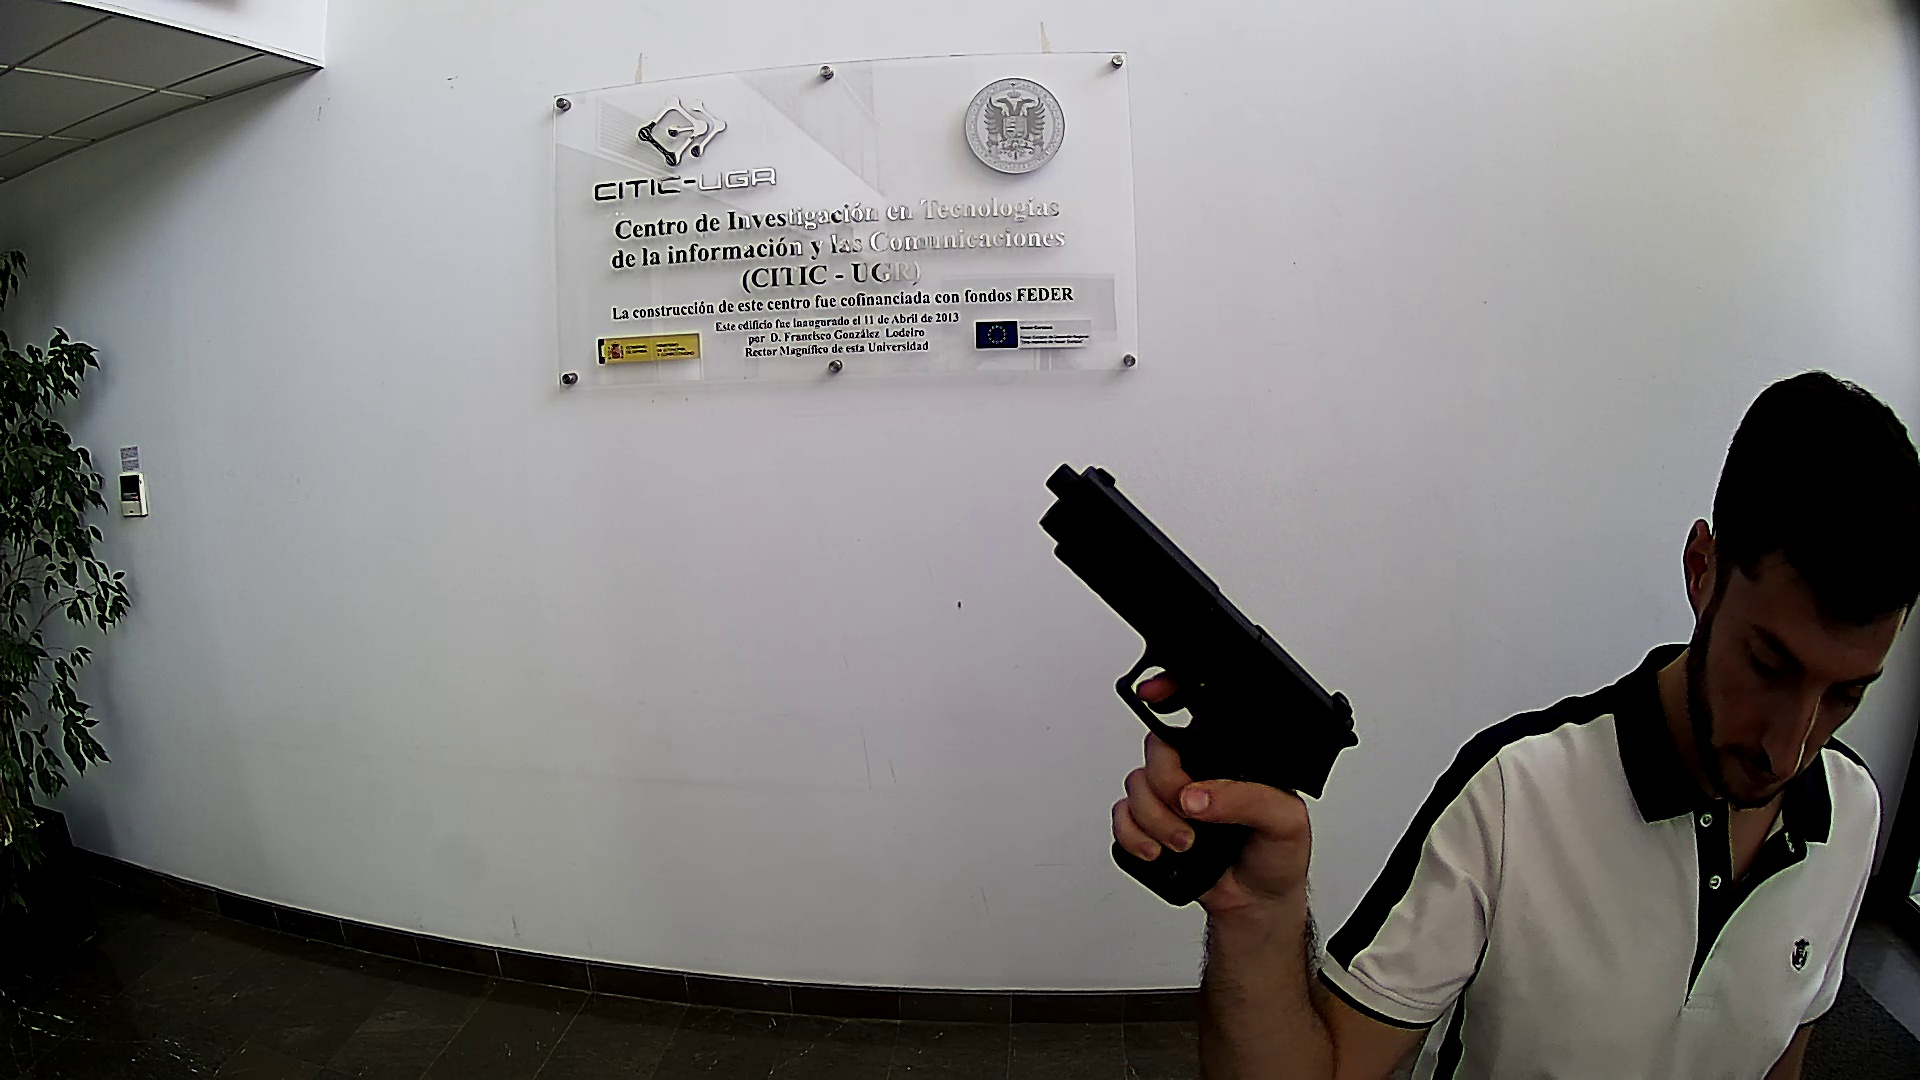pistol: (1036, 459, 1361, 909)
